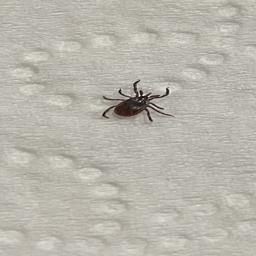Ixodes scapularis: (101, 79, 176, 121)
